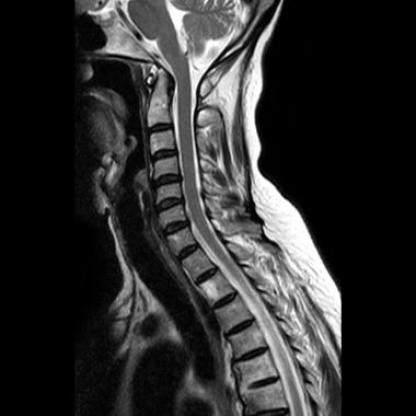Disc Bulgerotation: (151, 196, 185, 214), (149, 173, 183, 190), (160, 220, 190, 235)
